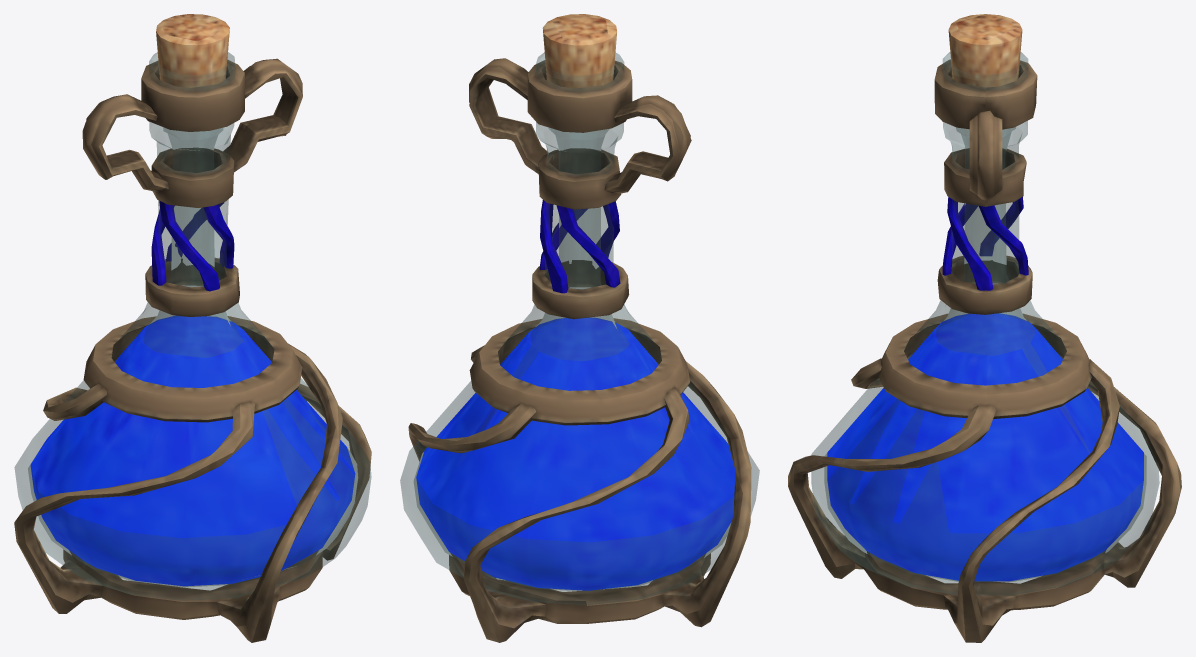
The model's file is potion_mana.glb.
3 views of the same model, side by side, from view 1: azimuth 30°, elevation 25°; view 2: azimuth 150°, elevation 25°; view 3: azimuth 270°, elevation 25° (orthographic).
Visible parts, largest first — view 1: Potion2; view 2: Potion2; view 3: Potion2.
Boxes of the visible parts, x1,y1,x2,y2 form: Potion2: [14, 14, 371, 642]; Potion2: [400, 14, 759, 642]; Potion2: [788, 14, 1181, 642].
Bounding box in the file's own units: 29.54 × 45.76 × 29.62.
Materials: 1 (1 with a texture image).
